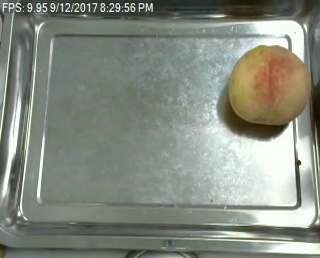Peach: (228, 43, 310, 126)
